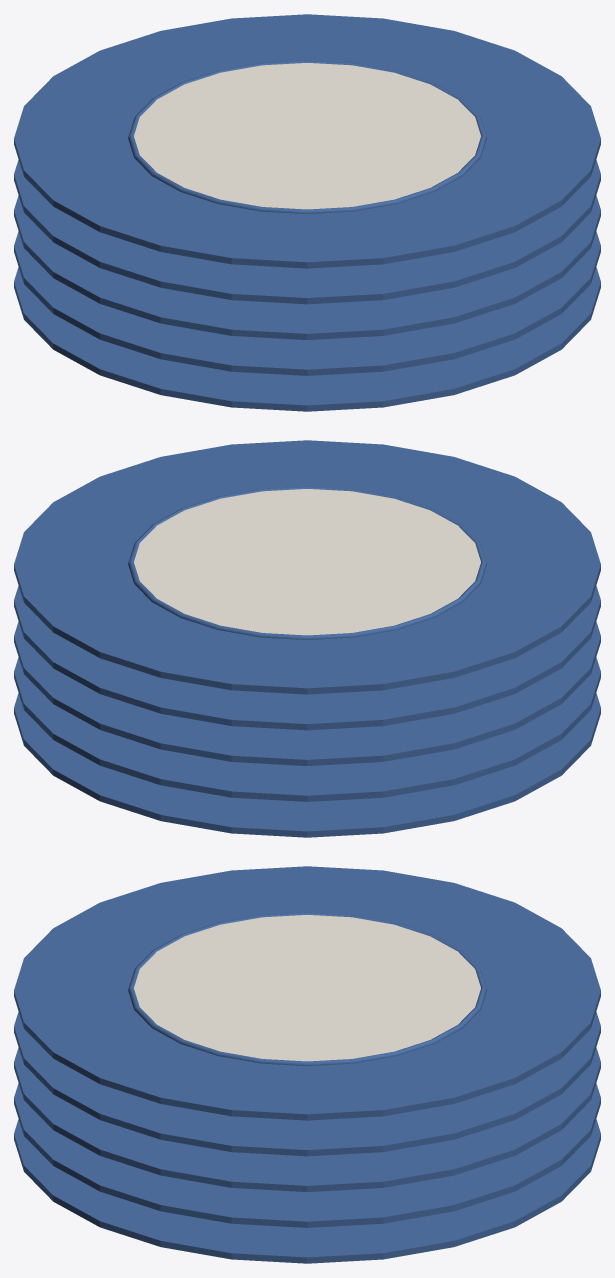
Rendered from hh_cat_plate_stack.glb.
The picture shows the model from 3 angles, top to bottom: view 1: azimuth 30°, elevation 25°; view 2: azimuth 150°, elevation 25°; view 3: azimuth 270°, elevation 25°; orthographic projection.
Visible parts, largest first — view 1: plate_rim.004, plate_well, plate_rim.003, plate_rim, plate_rim.002, plate_rim.001, plate_ring; view 2: plate_rim.004, plate_well, plate_rim.003, plate_rim, plate_rim.002, plate_rim.001, plate_ring; view 3: plate_rim.004, plate_well, plate_rim.003, plate_rim, plate_rim.002, plate_rim.001, plate_ring.
Part boxes in pixels (x1,y1,x2,y2): plate_rim.004: (14, 14, 600, 268); plate_well: (134, 63, 480, 209); plate_rim.003: (14, 160, 600, 304); plate_rim: (14, 267, 600, 411); plate_rim.002: (14, 195, 600, 339); plate_rim.001: (14, 231, 600, 375); plate_ring: (128, 60, 486, 213); plate_rim.004: (14, 440, 600, 694); plate_well: (134, 489, 480, 635); plate_rim.003: (14, 586, 600, 730); plate_rim: (14, 693, 600, 837); plate_rim.002: (14, 621, 600, 765); plate_rim.001: (14, 657, 600, 801); plate_ring: (128, 486, 486, 639); plate_rim.004: (14, 866, 600, 1120); plate_well: (134, 915, 480, 1061); plate_rim.003: (14, 1012, 600, 1156); plate_rim: (14, 1119, 600, 1263); plate_rim.002: (14, 1047, 600, 1191); plate_rim.001: (14, 1083, 600, 1227); plate_ring: (128, 912, 486, 1065).
Bounding box in the file's own units: 0.26 × 0.09 × 0.26.
